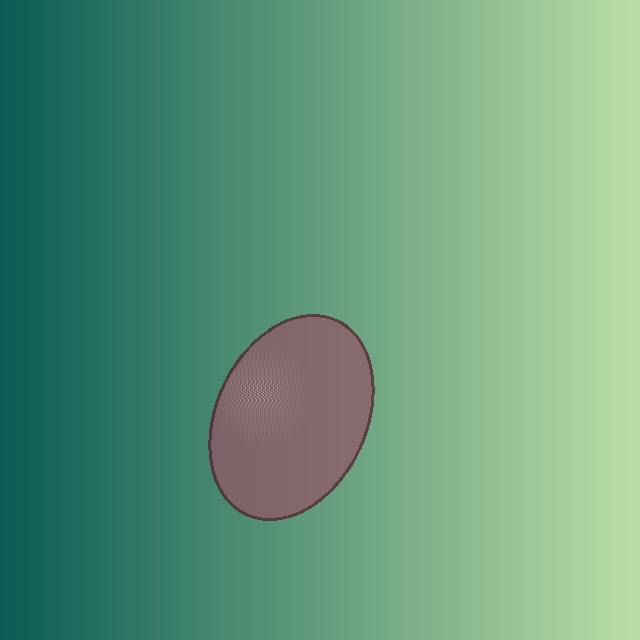lens: (210, 315, 372, 519)
